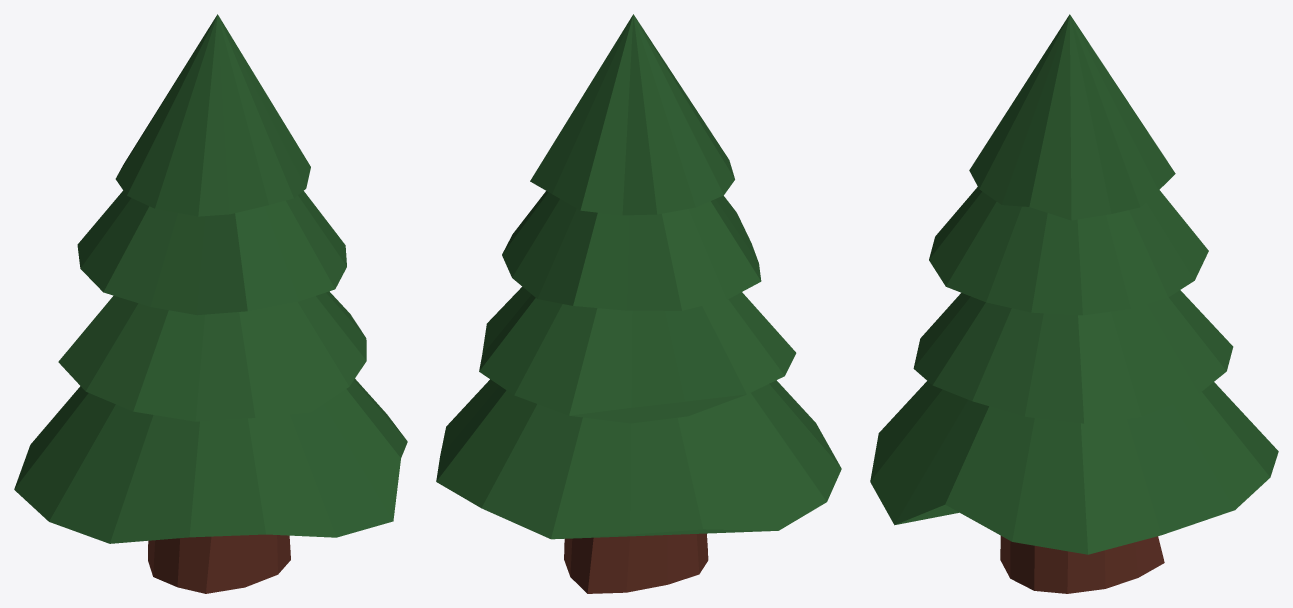
The model's file is Tree3.fbx.
The picture shows the model from 3 angles, left to right: view 1: azimuth 30°, elevation 25°; view 2: azimuth 150°, elevation 25°; view 3: azimuth 270°, elevation 25°; orthographic projection.
Visible parts, largest first — view 1: Tree2; view 2: Tree2; view 3: Tree2.
Part boxes in pixels (x1,y1,x2,y2): Tree2: (14,14,407,593); Tree2: (436,14,841,593); Tree2: (870,14,1278,593).
Size of the model in its own units: 473 by 685 by 462.
